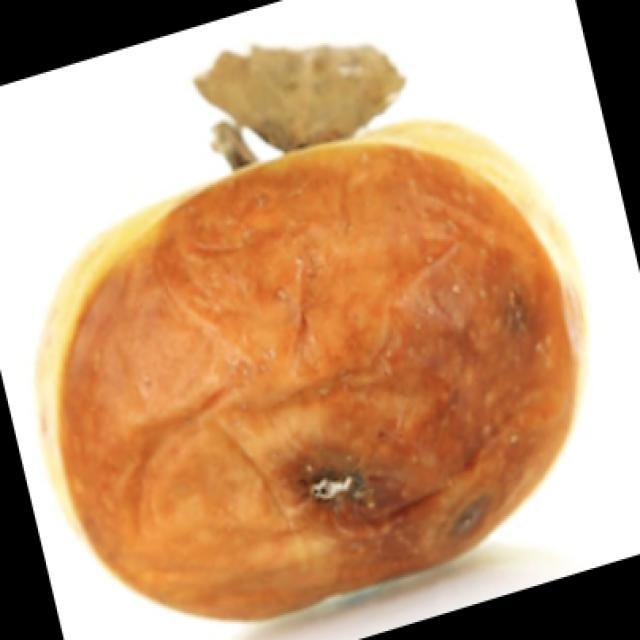Rotten: (55, 123, 560, 605)
